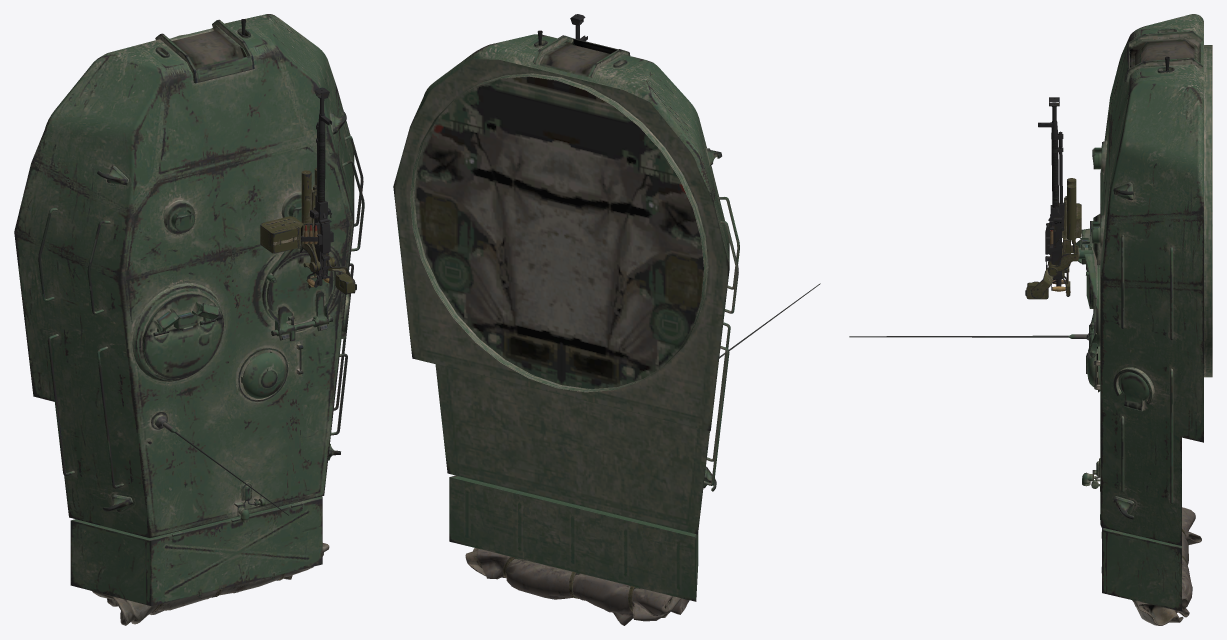
Rendered from Turret_02.glb.
The picture shows the model from 3 angles, left to right: view 1: azimuth 30°, elevation 25°; view 2: azimuth 150°, elevation 25°; view 3: azimuth 270°, elevation 25°; orthographic projection. The views are drawn at different scales.
Visible parts, largest first — view 1: set_0_group_0; view 2: set_0_group_0; view 3: set_0_group_0.
Part boxes in pixels (x1,y1,x2,y2): set_0_group_0: (14, 14, 364, 625); set_0_group_0: (393, 14, 820, 625); set_0_group_0: (849, 14, 1212, 625).
Size of the model in its own units: 2.86 by 4.63 by 2.73.
Materials: 1 (1 with a texture image).
